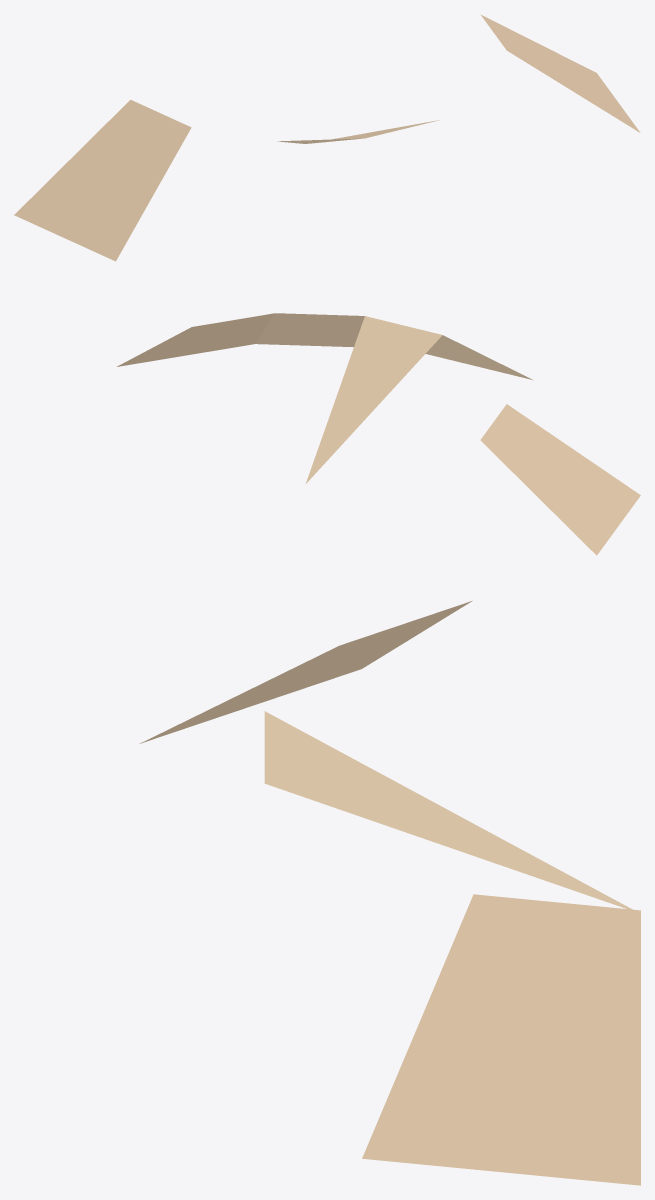
Rendered from shell_0.glb.
3 renders of one model, top to bottom at view 1: azimuth 30°, elevation 25°; view 2: azimuth 150°, elevation 25°; view 3: azimuth 270°, elevation 25°, orthographic. The views are drawn at different scales.
Parts seen in each view (by area): view 1: Shell; view 2: Shell; view 3: Shell.
Boxes of the visible parts, x1=… form: Shell: x1=14, y1=14, x2=640, y2=261; Shell: x1=117, y1=313, x2=640, y2=555; Shell: x1=139, y1=600, x2=640, y2=1185.
Bounding box in the file's own units: 0.56 × 0.08 × 0.273.
